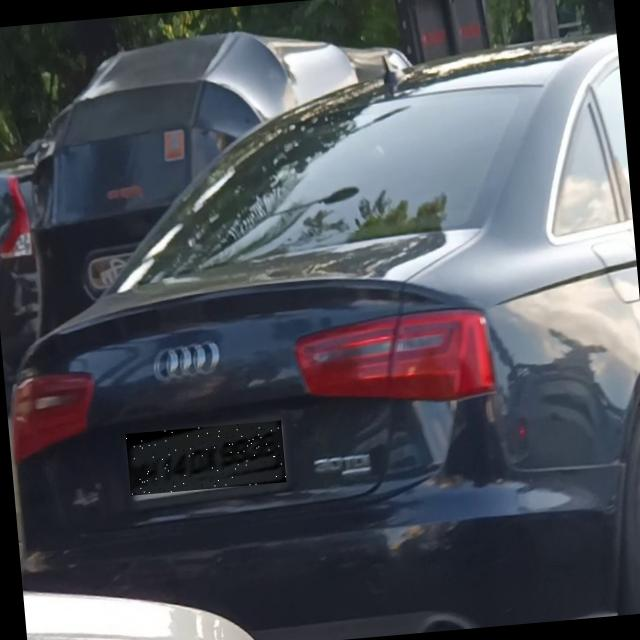Plate: (126, 421, 287, 496)
